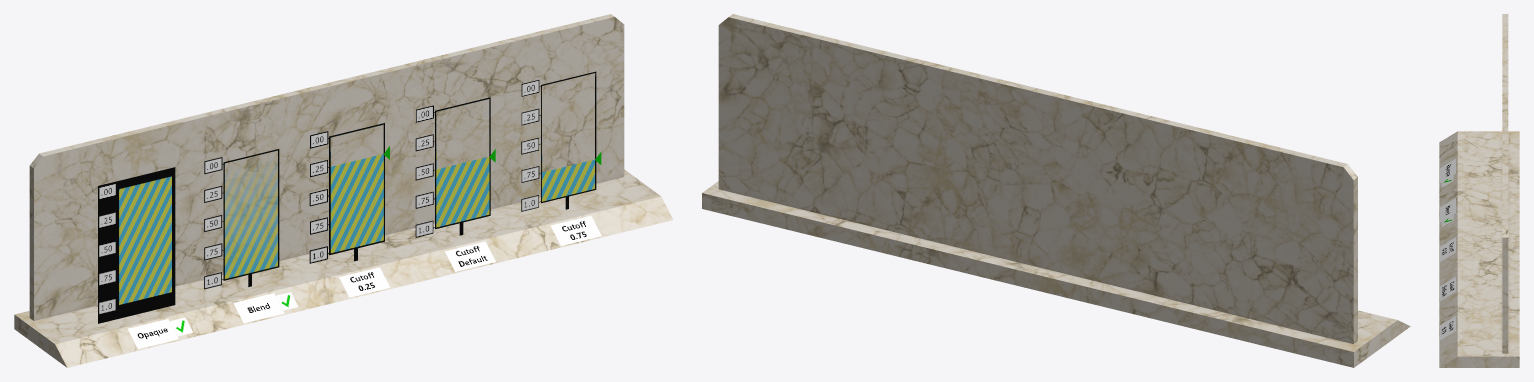
The model's file is AlphaBlendModeTest.gltf.
3 views of the same model, side by side, from view 1: azimuth 30°, elevation 25°; view 2: azimuth 150°, elevation 25°; view 3: azimuth 270°, elevation 25° (orthographic). The views are drawn at different scales.
Parts seen in each view (by area): view 1: Bed, TestOpaque, TestBlend, TestCutoff25, DecalOpaque, TestCutoffDefault, TestCutoff75; view 2: Bed; view 3: Bed, DecalOpaque.
Boxes of the visible parts, x1,y1,x2,y2 form: Bed: (14, 14, 673, 367); TestOpaque: (98, 167, 175, 323); TestBlend: (204, 149, 279, 289); TestCutoff25: (309, 123, 384, 263); DecalOpaque: (128, 216, 601, 349); TestCutoffDefault: (415, 97, 490, 237); TestCutoff75: (521, 71, 596, 211); Bed: (702, 14, 1410, 367); Bed: (1439, 14, 1519, 367); DecalOpaque: (1440, 158, 1455, 340).
Size of the model in its own units: 8.6 by 2.4 by 1.3.
Materials: 6 (6 with a texture image).
